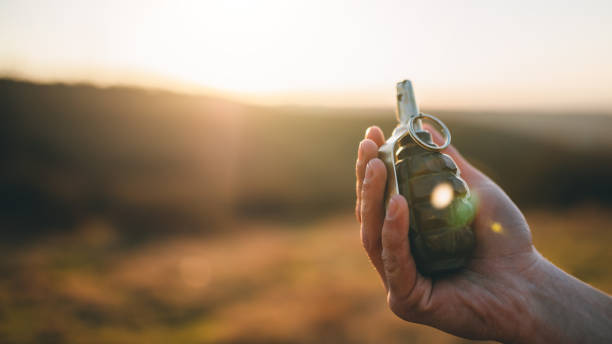e1: (378, 80, 477, 283)
